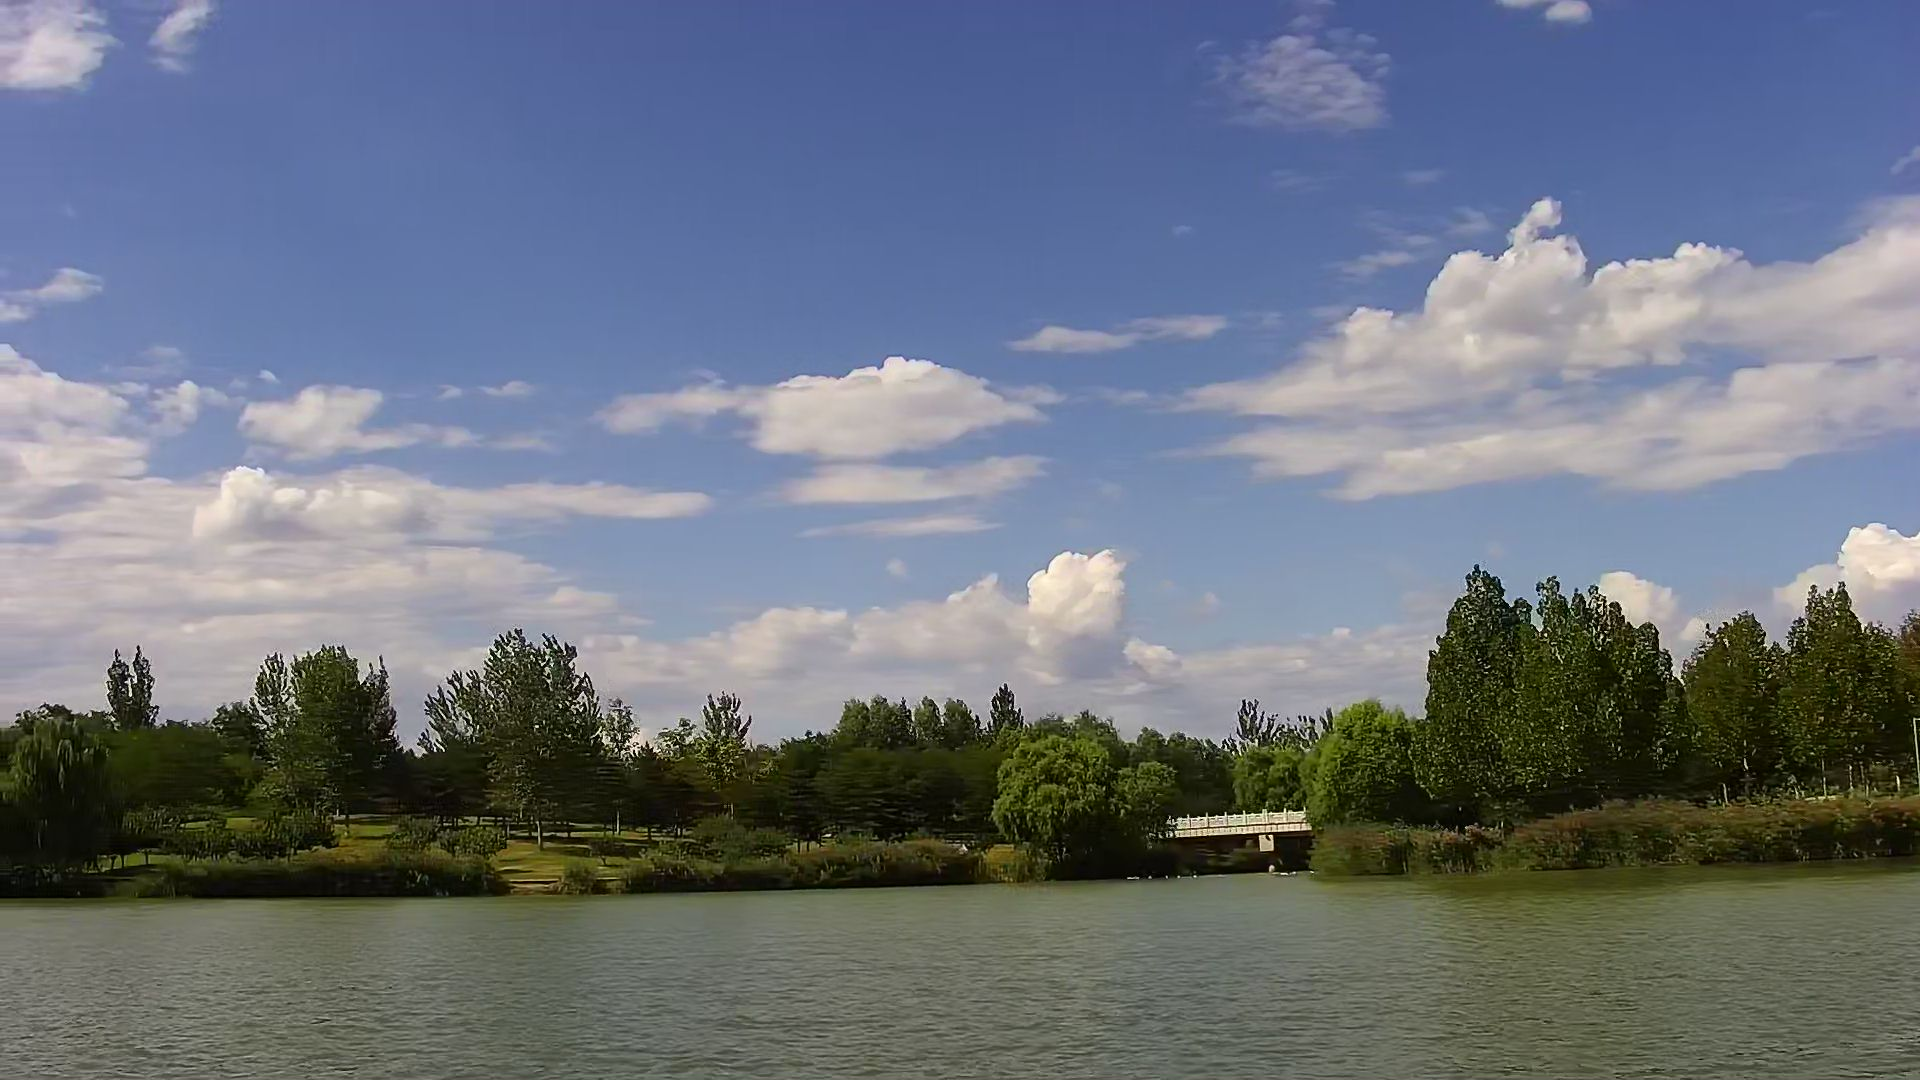bridge: (1174, 807, 1312, 866)
